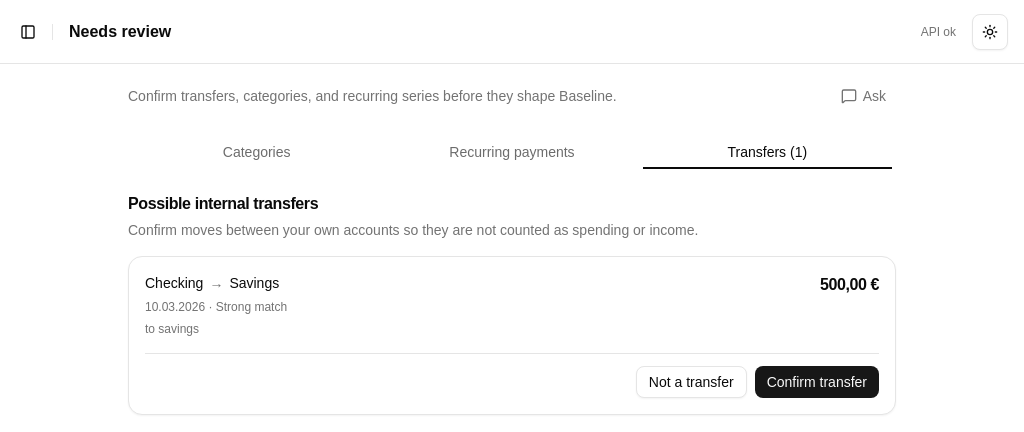
Test: Needs review inbox › confirms a transfer and clears it from the queue
Expected: the heading "Possible internal transfers" is shown, [128,195,318,212]
Expected: the text "500,00 €" is shown, [820,273,879,297]
Click the button "Confirm transfer". click: point(817, 382)
box: [755,366,879,398]
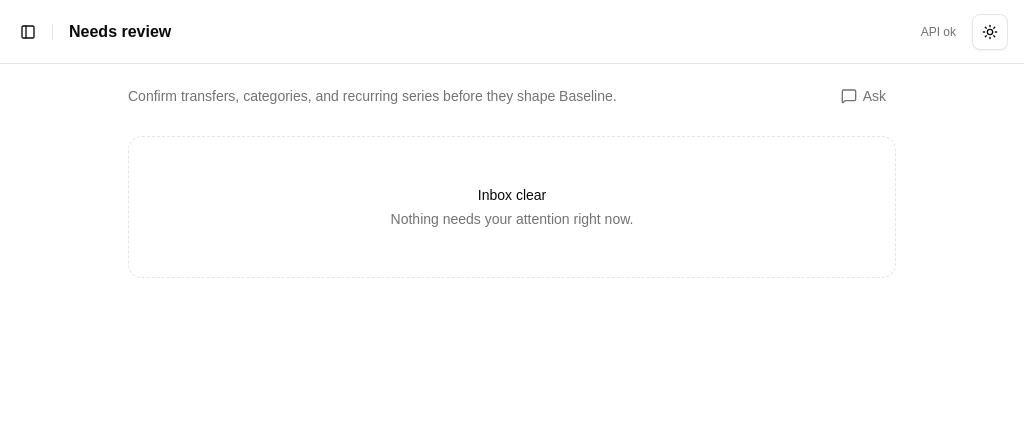
Expected: the text "Inbox clear" is shown, [478,187,546,203]
